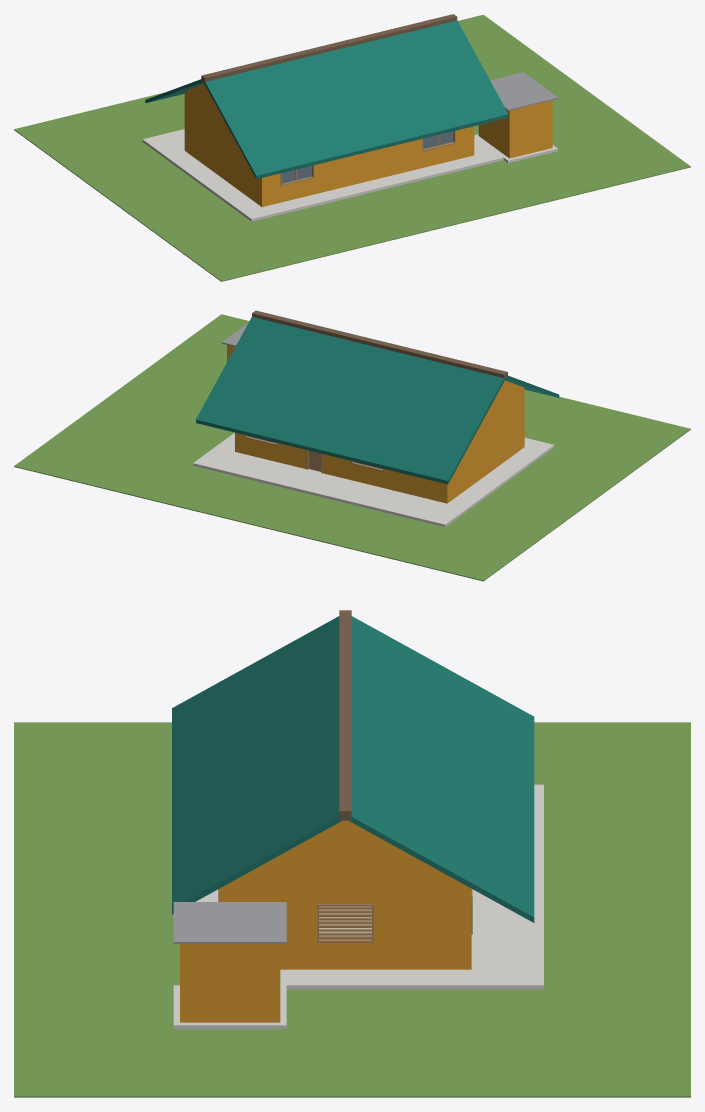
The model's file is gestion_bienes.glb.
3 views of the same model, one above another, from view 1: azimuth 30°, elevation 25°; view 2: azimuth 150°, elevation 25°; view 3: azimuth 270°, elevation 25° (orthographic). The views are drawn at different scales.
Parts seen in each view (by area): view 1: Gestión de Bienes; view 2: Gestión de Bienes; view 3: Gestión de Bienes.
Boxes of the visible parts, x1,y1,x2,y2 form: Gestión de Bienes: [14, 14, 690, 281]; Gestión de Bienes: [14, 310, 690, 581]; Gestión de Bienes: [14, 610, 690, 1097].
Size of the model in its own units: 28.2 by 6.33 by 21.58.
